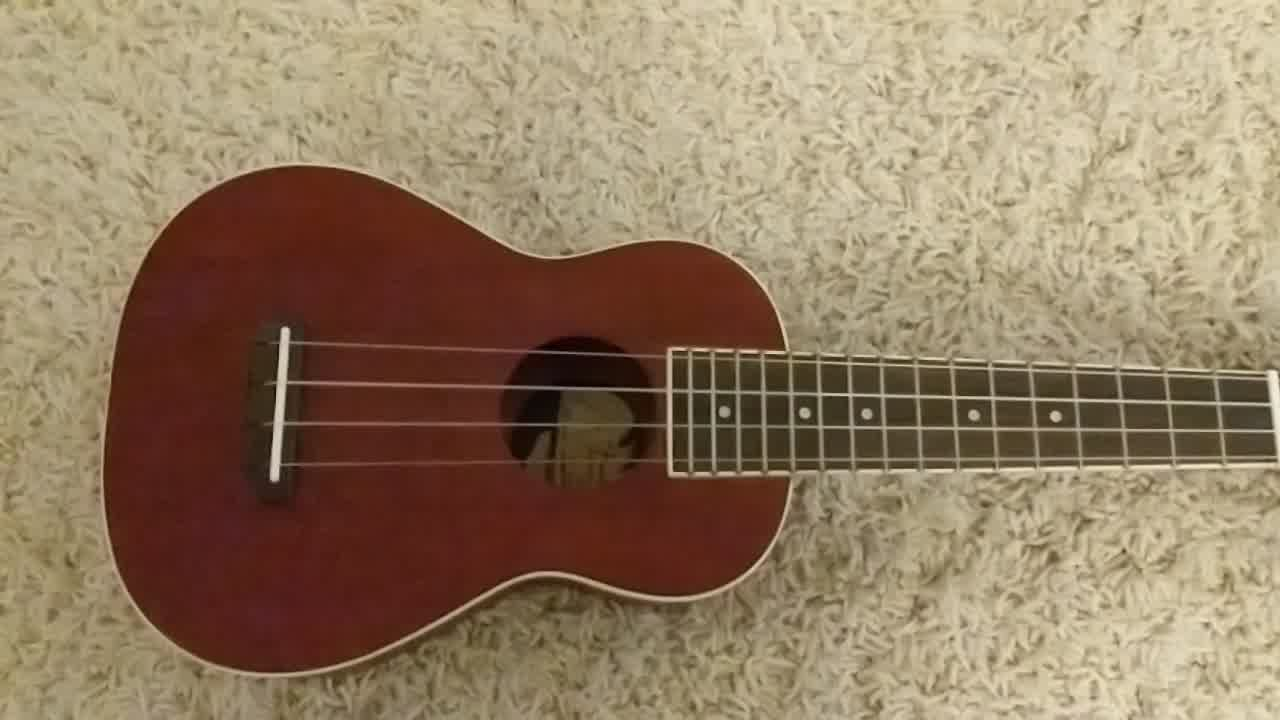Body: (96, 158, 796, 687)
Bridge: (243, 320, 309, 499)
